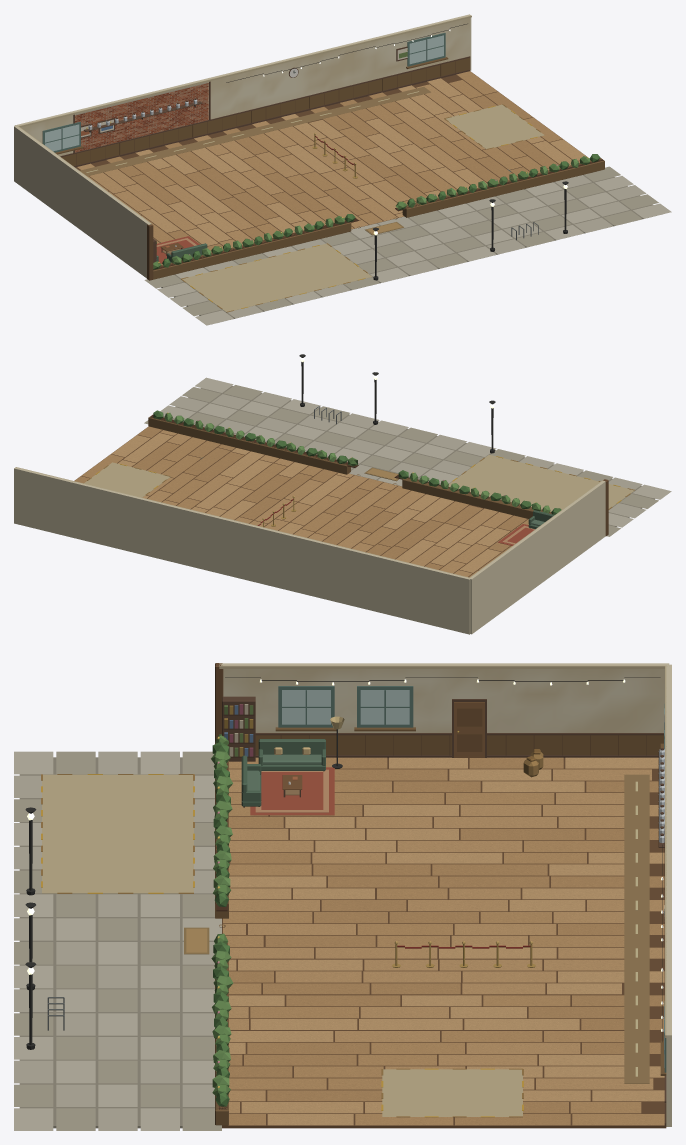
The model's file is room.glb.
The picture shows the model from 3 angles, top to bottom: view 1: azimuth 30°, elevation 25°; view 2: azimuth 150°, elevation 25°; view 3: azimuth 270°, elevation 25°; orthographic projection. The views are drawn at different scales.
Visible parts, largest first — view 1: cafe_room, cafe_floor; view 2: cafe_room, cafe_floor; view 3: cafe_room, cafe_floor.
Boxes of the visible parts, <box> form: cafe_room: <box>14,14,671,325</box>; cafe_floor: <box>77,71,587,252</box>; cafe_room: <box>14,354,671,634</box>; cafe_floor: <box>74,426,528,577</box>; cafe_room: <box>14,663,671,1130</box>; cafe_floor: <box>223,757,664,1125</box>.
Size of the model in its own units: 31.9 by 3.7 by 23.4.
Materials: 3 (1 with a texture image).
